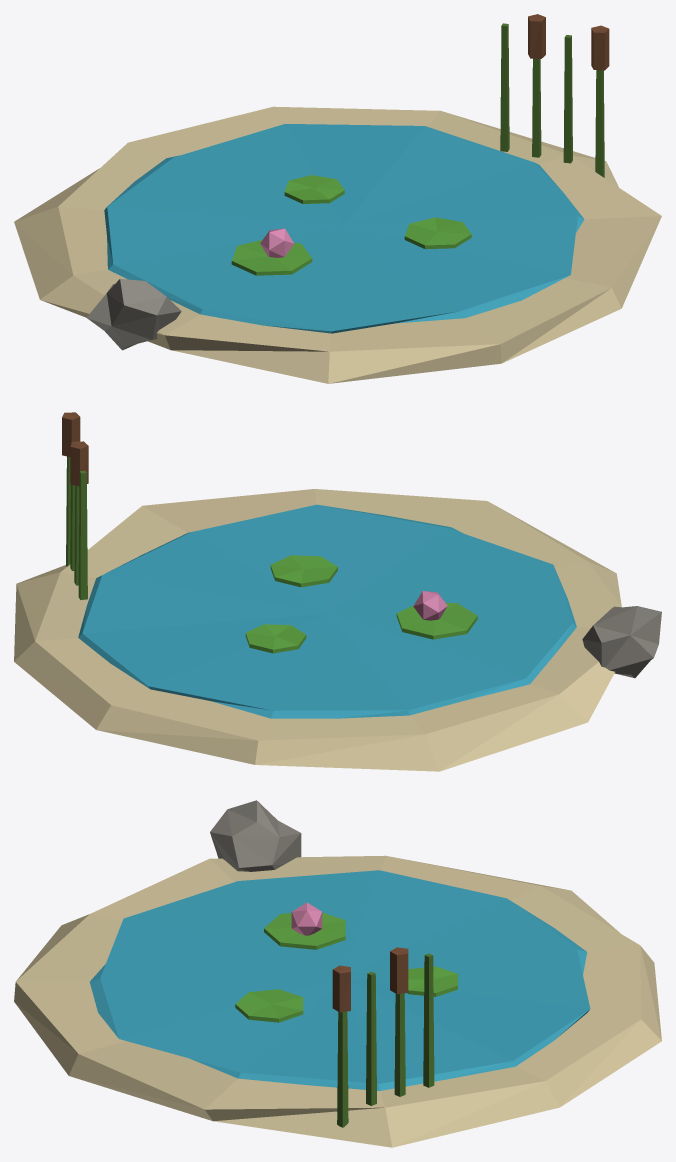
The model's file is etang.glb.
The picture shows the model from 3 angles, top to bottom: view 1: azimuth 30°, elevation 25°; view 2: azimuth 150°, elevation 25°; view 3: azimuth 270°, elevation 25°; orthographic projection. The views are drawn at different scales.
Bounding box in the file's own units: 1.47 × 0.3999 × 1.37.
